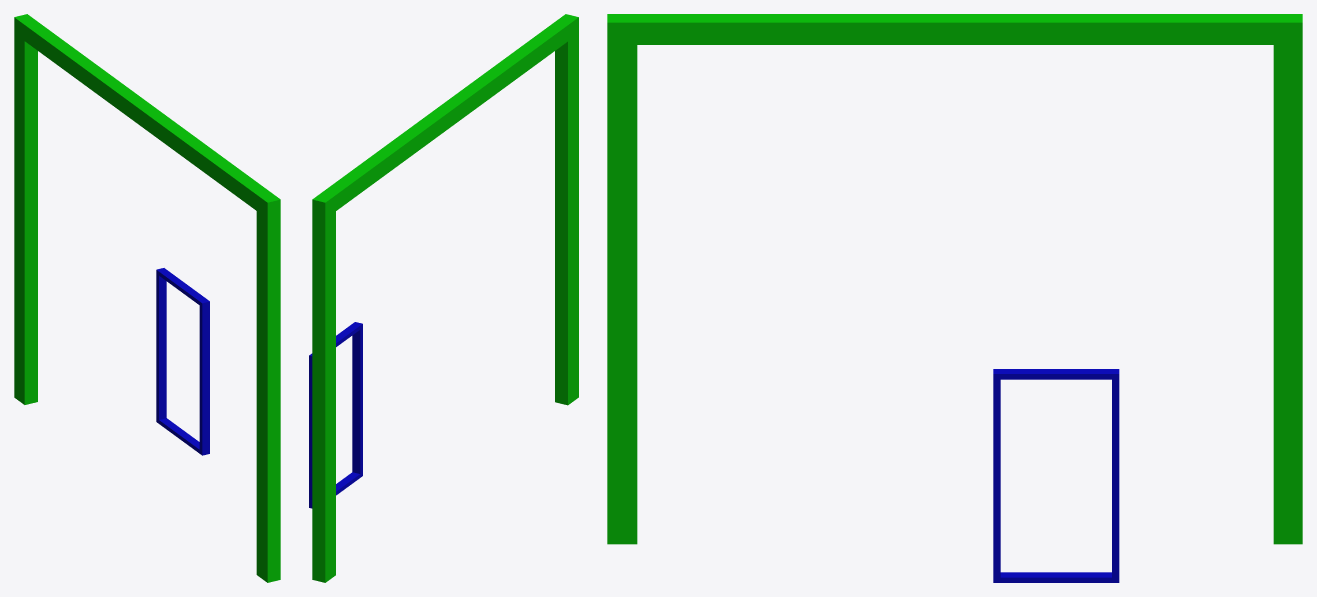
File: Door_stand.fbx
3 views of the same model, side by side, from view 1: azimuth 30°, elevation 25°; view 2: azimuth 150°, elevation 25°; view 3: azimuth 270°, elevation 25° (orthographic). The views are drawn at different scales.
Visible parts, largest first — view 1: Door_Frame_Stand; view 2: Door_Frame_Stand; view 3: Door_Frame_Stand.
Boxes of the visible parts, left/top/right/bottom form: Door_Frame_Stand: left=14, top=14, right=280, bottom=582; Door_Frame_Stand: left=309, top=14, right=578, bottom=582; Door_Frame_Stand: left=607, top=14, right=1302, bottom=582.
Bounding box in the file's own units: 139 × 608 × 735.
